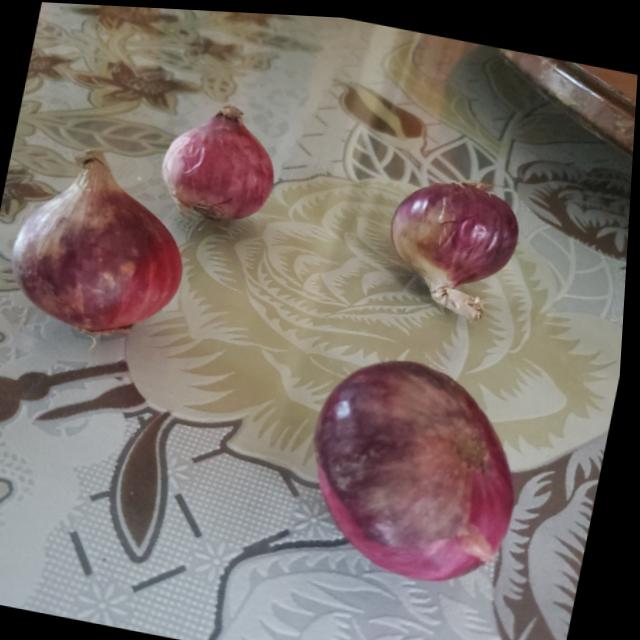onion: (294, 342, 540, 590), (9, 135, 208, 344), (387, 168, 532, 296), (159, 92, 289, 224)
